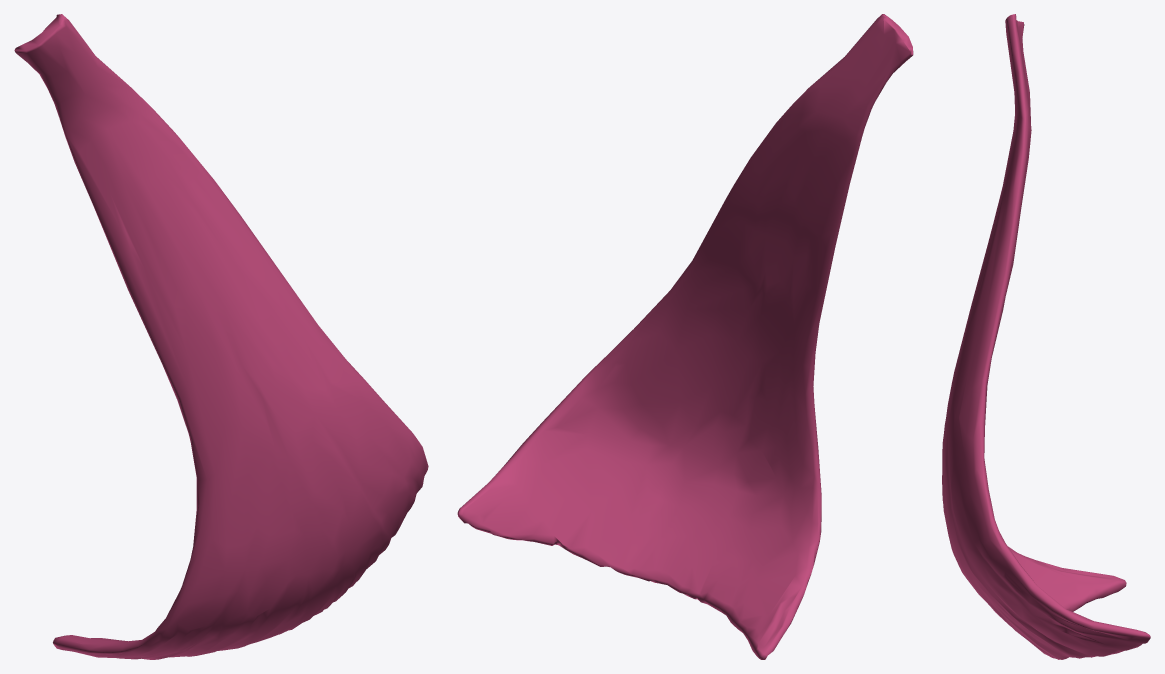
3 views of the same model, side by side, from view 1: azimuth 30°, elevation 25°; view 2: azimuth 150°, elevation 25°; view 3: azimuth 270°, elevation 25° (orthographic). The views are drawn at different scales.
Parts seen in each view (by area): view 1: 左侧上睑提肌; view 2: 左侧上睑提肌; view 3: 左侧上睑提肌.
Boxes of the visible parts, <box> form: 左侧上睑提肌: <box>14,14,428,659</box>; 左侧上睑提肌: <box>457,14,913,659</box>; 左侧上睑提肌: <box>942,14,1150,659</box>.
Bounding box in the file's own units: 0.0444 × 0.0678 × 0.0234.
